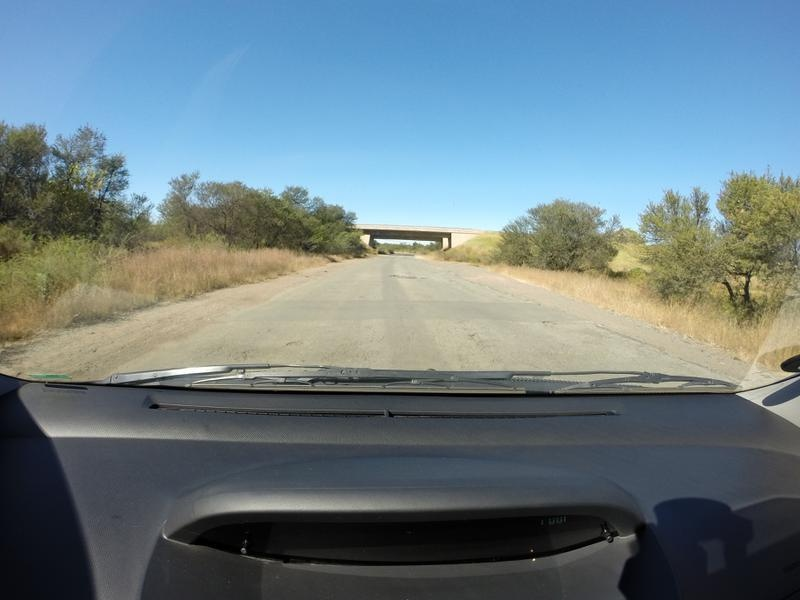pothole: (382, 270, 425, 284), (538, 316, 559, 327), (282, 339, 304, 349), (464, 329, 482, 340)
